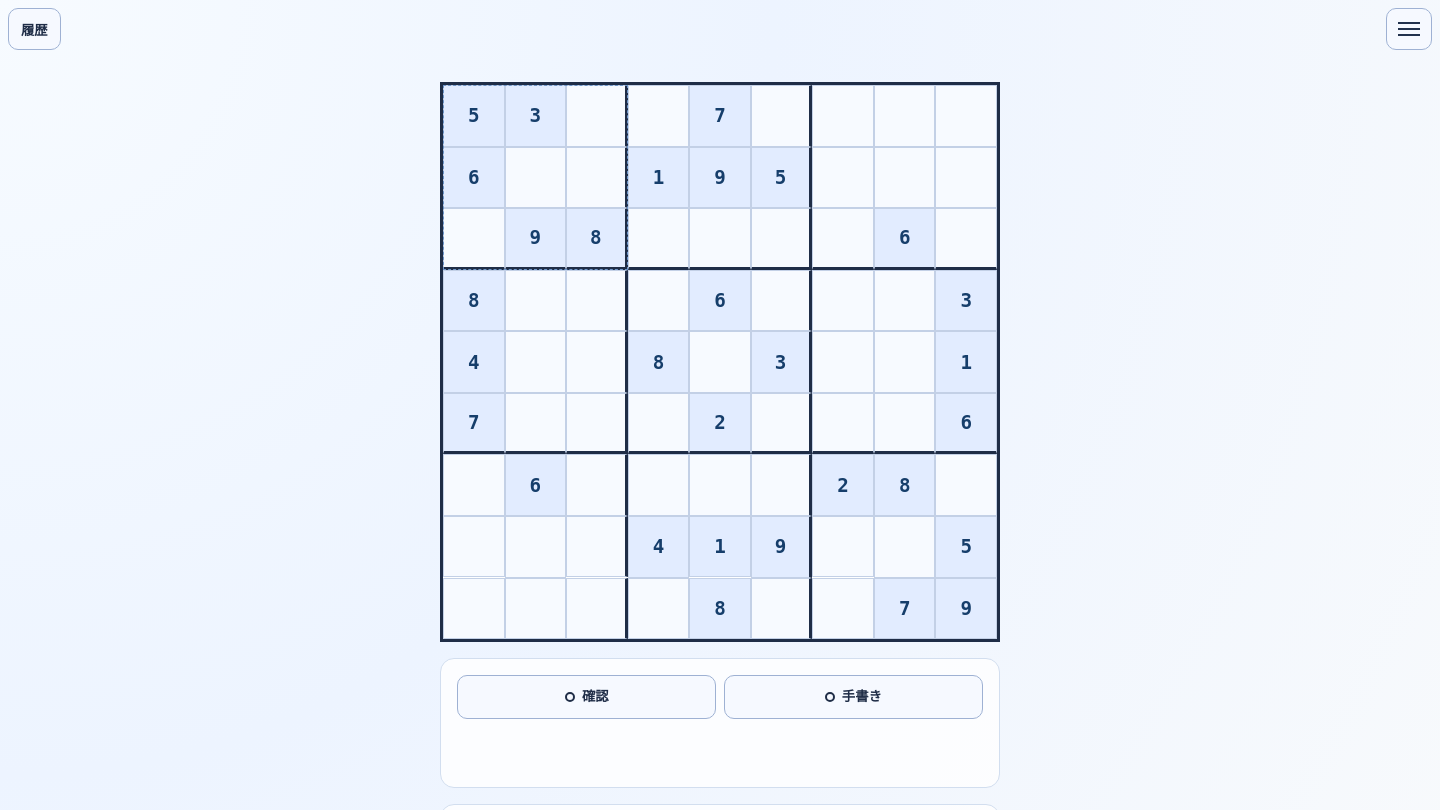
Test: Sudoku UI routing › closes drawer when menu toggle is pressed again
The width and height of the screenshot is (1440, 810).
Click the button named "メニューを開く". click: [1409, 29]
box: [1386,8,1432,50]
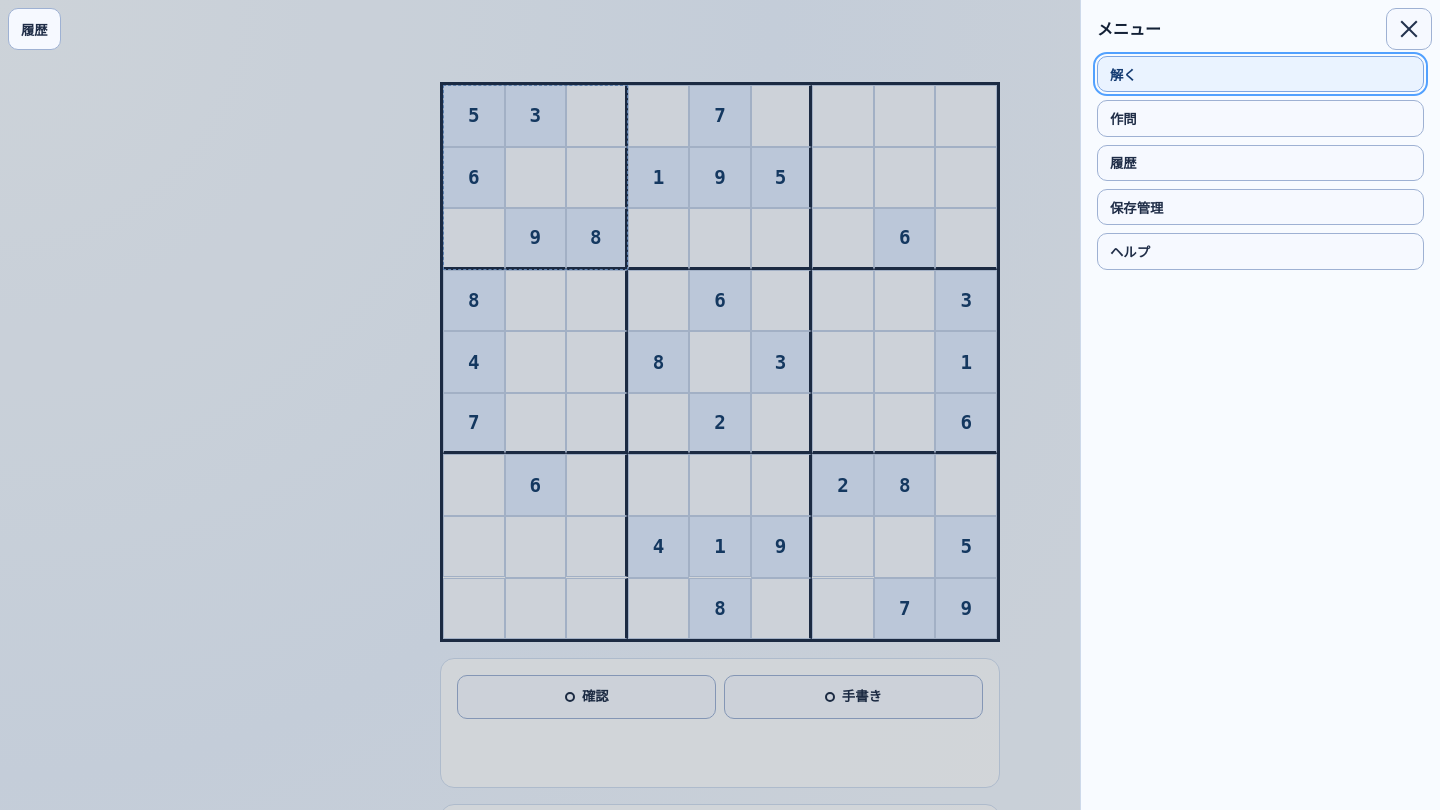
Click the button named "メニューを閉じる". click: [1409, 29]
box: [1386,8,1432,50]
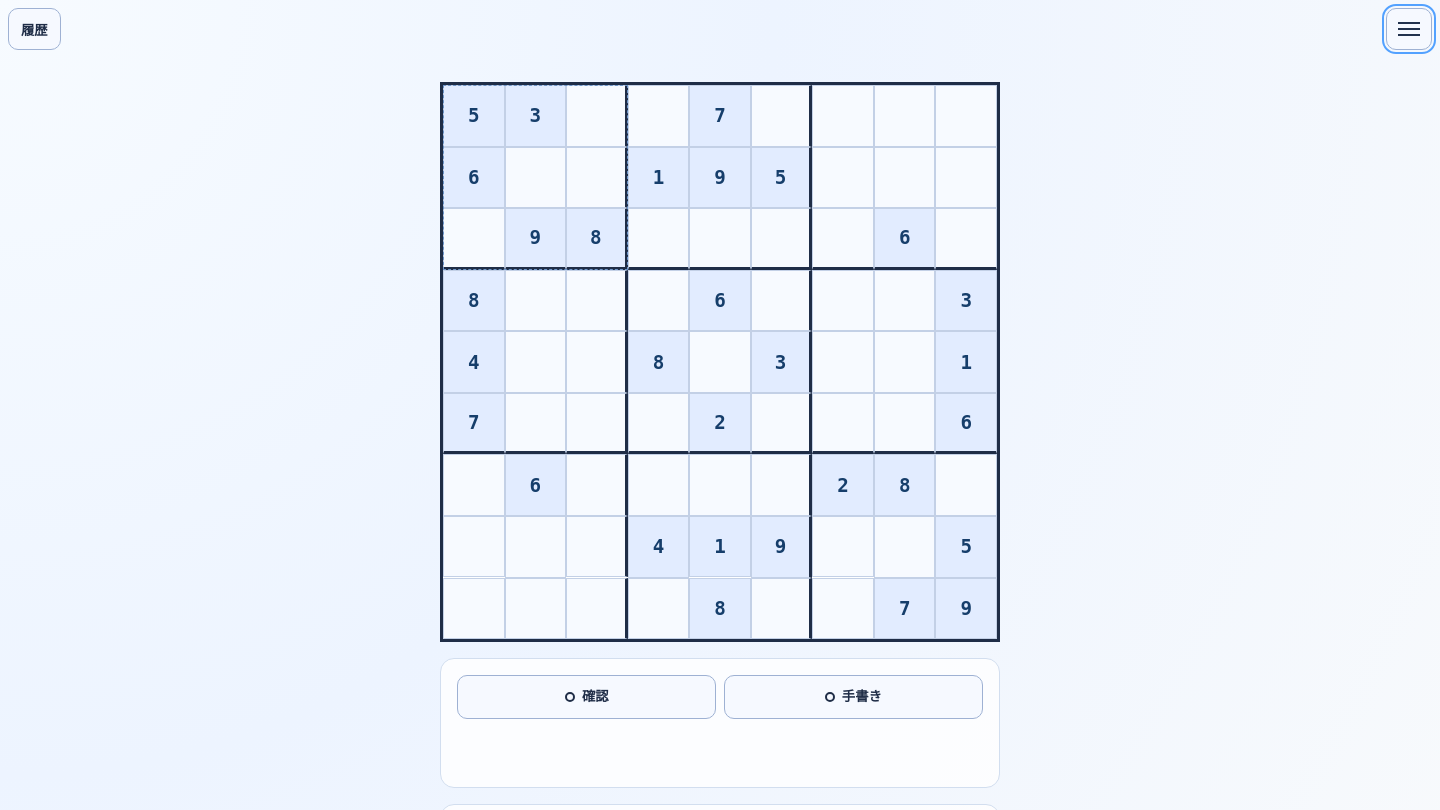
Now the button named "メニューを開く" is shown, box [1386,8,1432,50]
